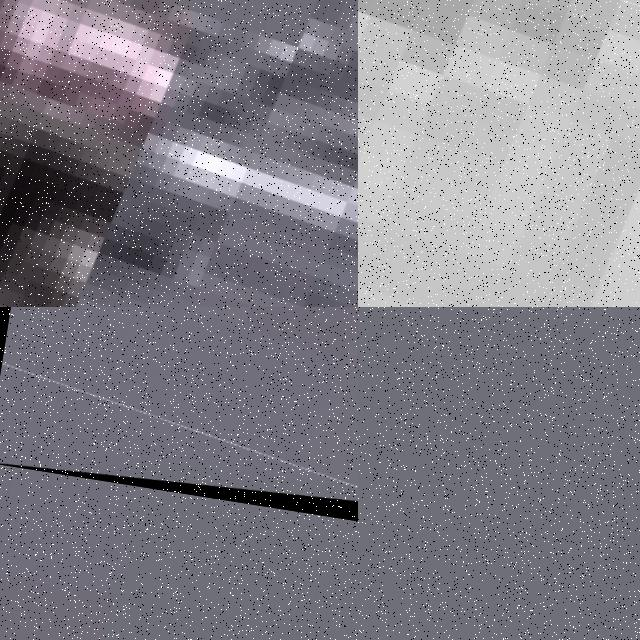0: (0, 0, 358, 307), (0, 307, 358, 563)
drone: (358, 0, 640, 307)
